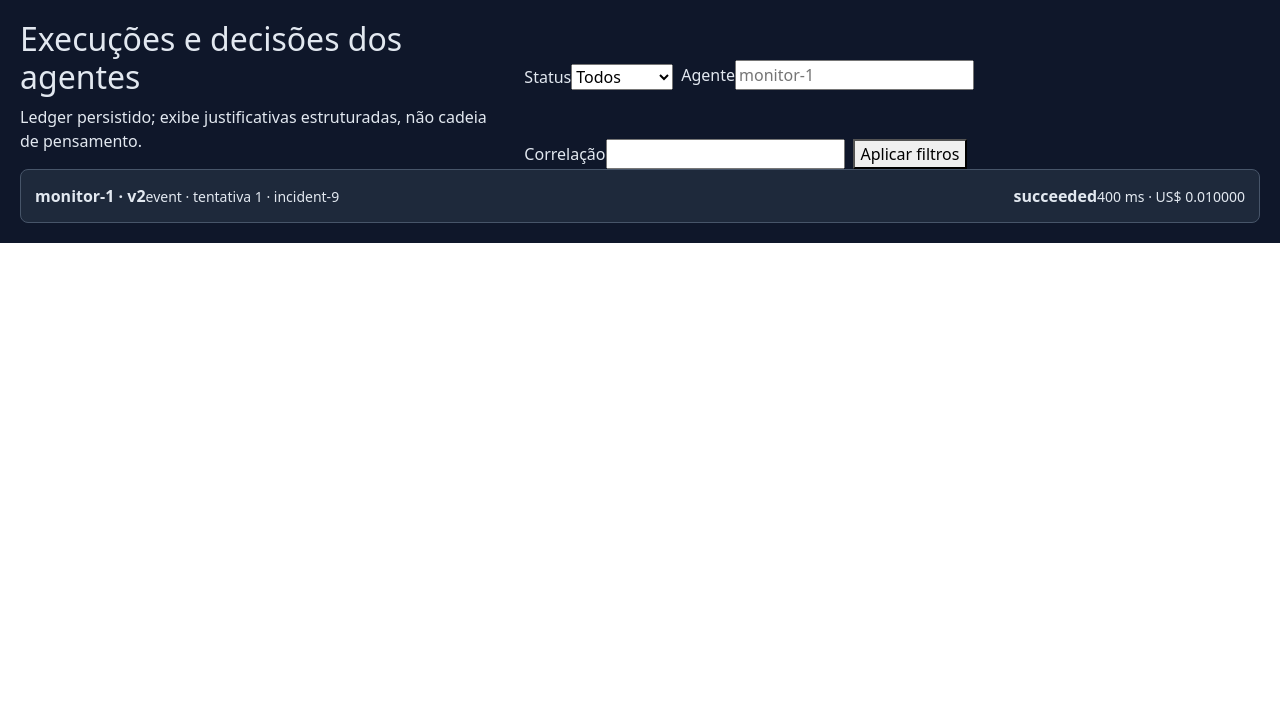
it: expands structured evidence, confidence, cost and context
Click the text "monitor-1 · v2": (75, 196) [35,185,146,207]
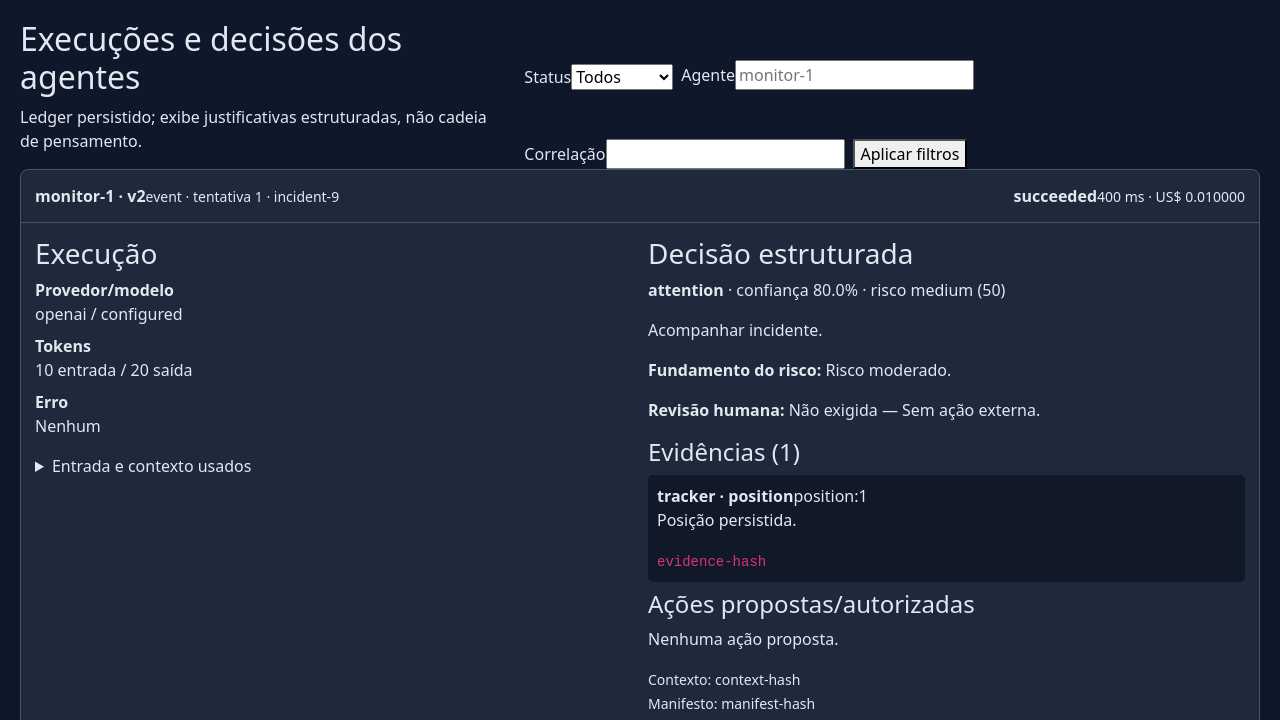
Expected: the text "400 ms · US$ 0.010000" is shown, [1097,187,1245,206]
Expected: the text "attention · confiança 80.0% · risco medium (50)" is shown, [648,279,1005,301]
Expected: the text "Posição persistida." is shown, [657,509,797,531]
